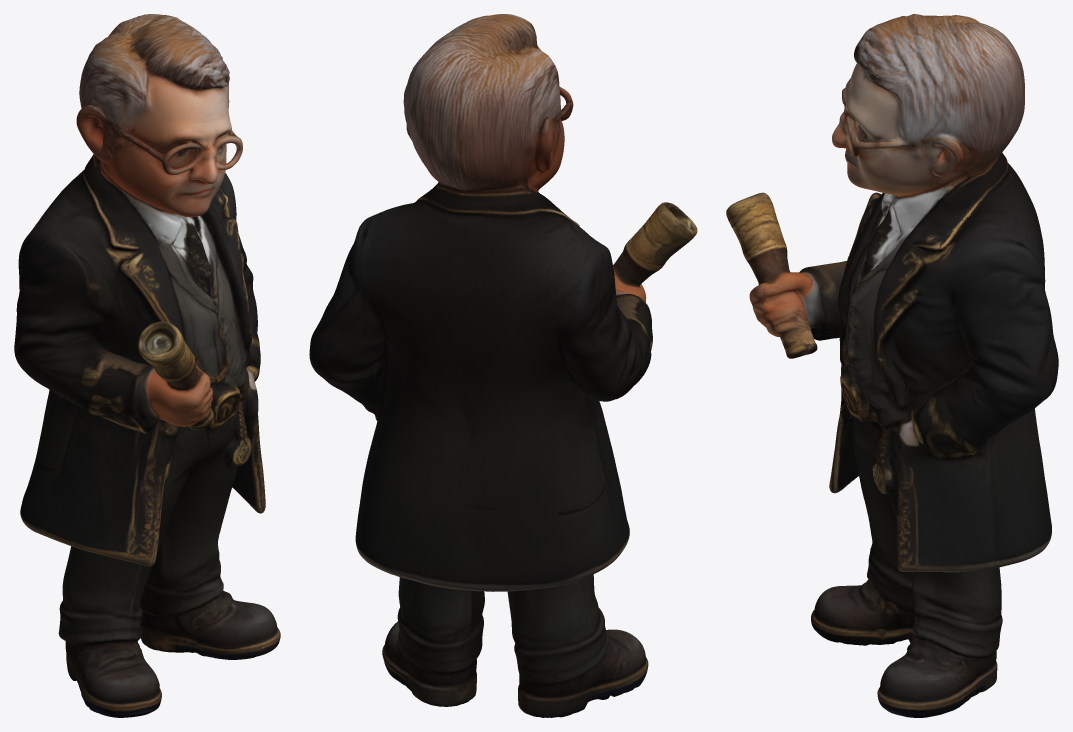
Rendered from elliott-sage.glb.
3 renders of one model, left to right at view 1: azimuth 30°, elevation 25°; view 2: azimuth 150°, elevation 25°; view 3: azimuth 270°, elevation 25°, orthographic. The views are drawn at different scales.
Visible parts, largest first — view 1: geometry_0; view 2: geometry_0; view 3: geometry_0.
Boxes of the visible parts, <box> form: geometry_0: <box>14,14,280,717</box>; geometry_0: <box>309,14,697,717</box>; geometry_0: <box>726,14,1058,717</box>.
Bounding box in the file's own units: 0.438 × 1 × 0.4626.
Materials: 1 (1 with a texture image).
